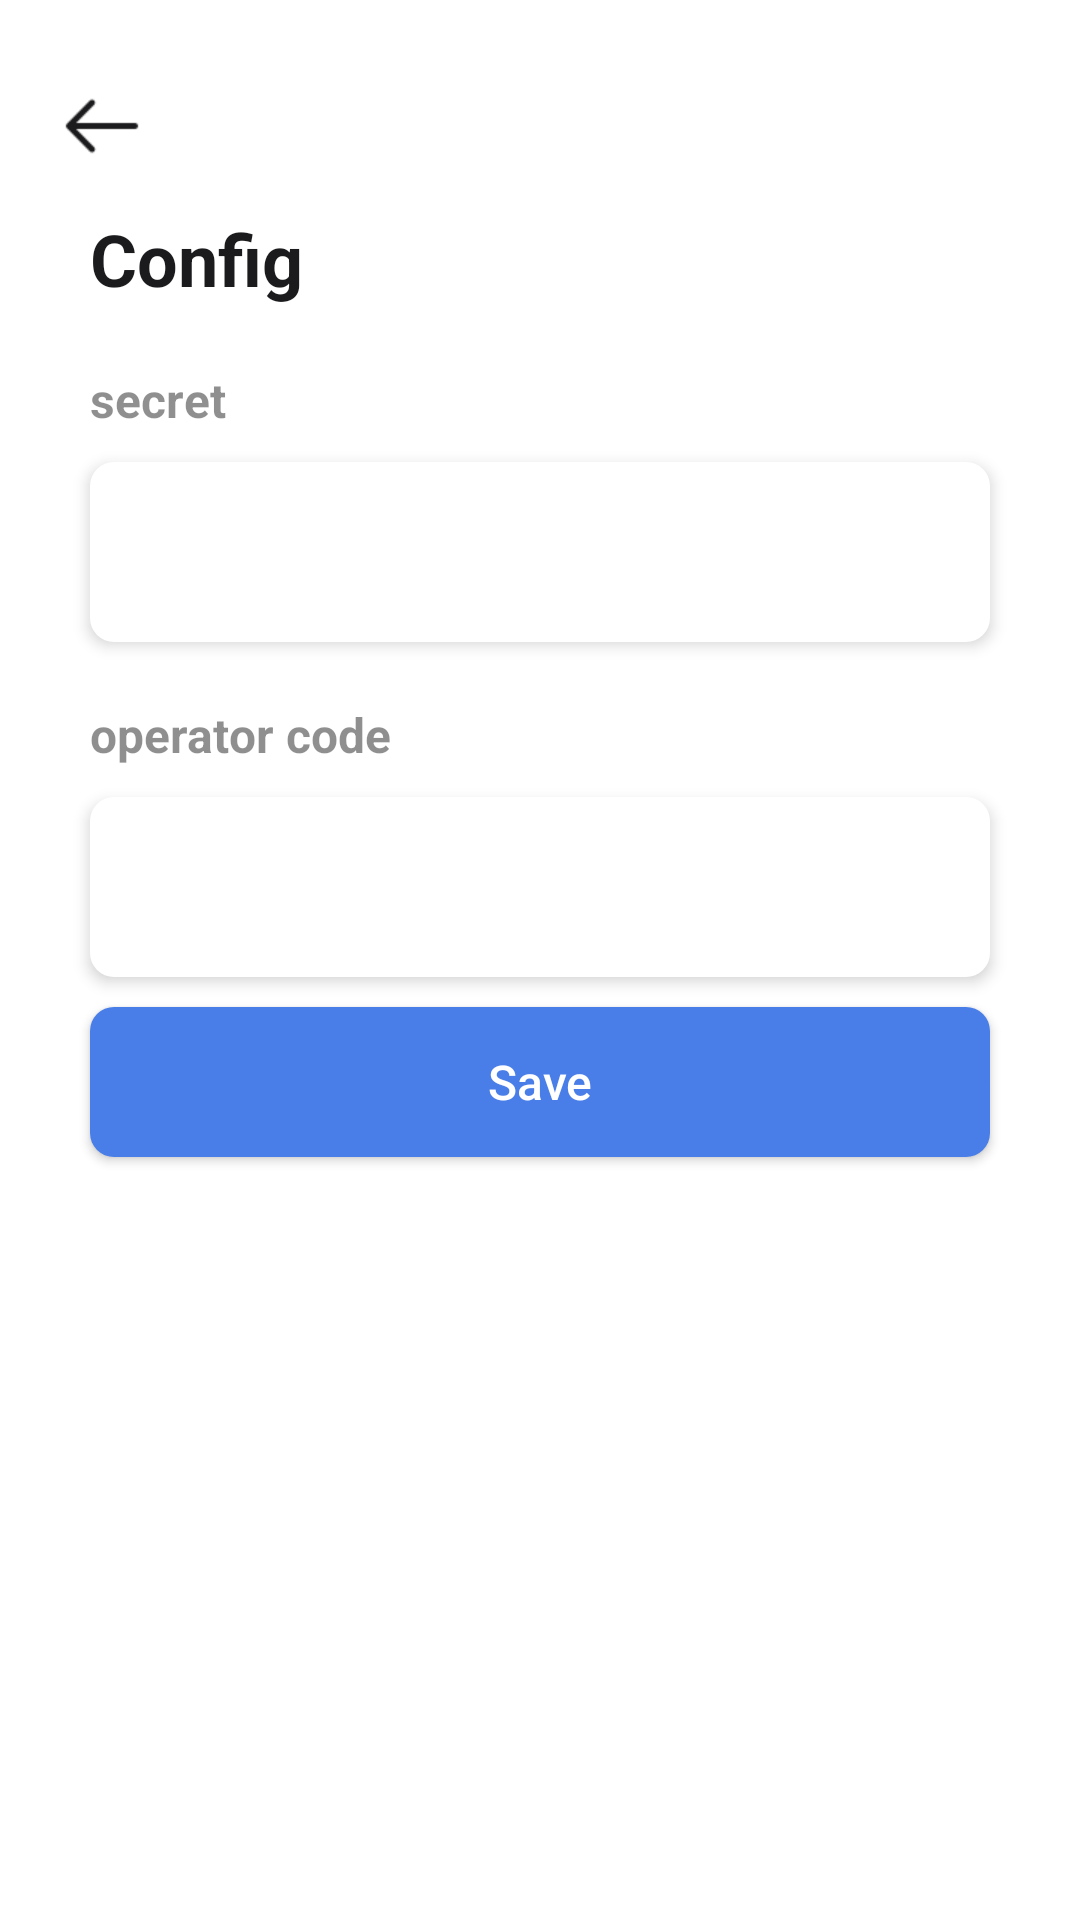

Icon click points for this 1080x1920 phone screenshot, format point (x, y):
back: point (102, 126)
